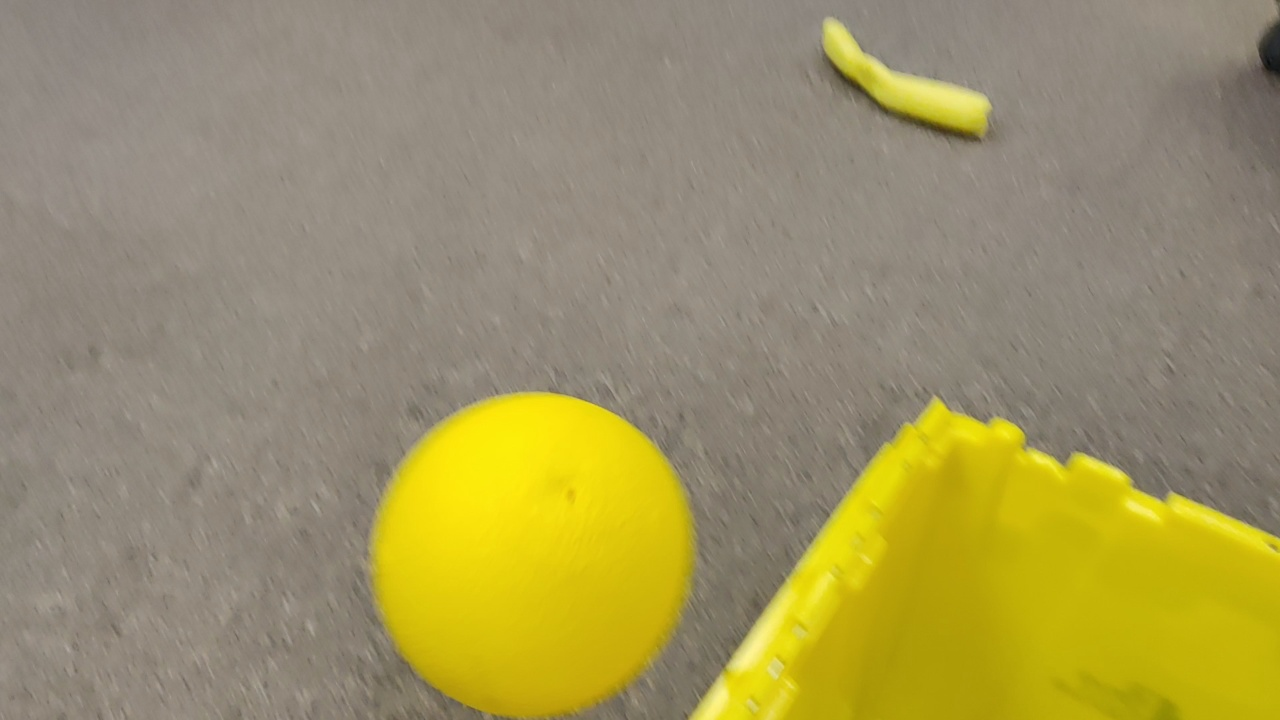Ball: (368, 390, 698, 720)
